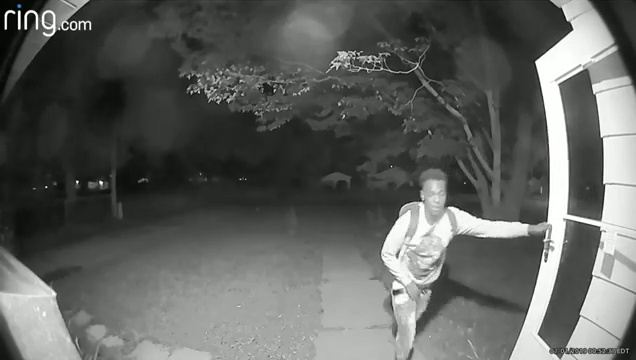face: (425, 183, 446, 211)
